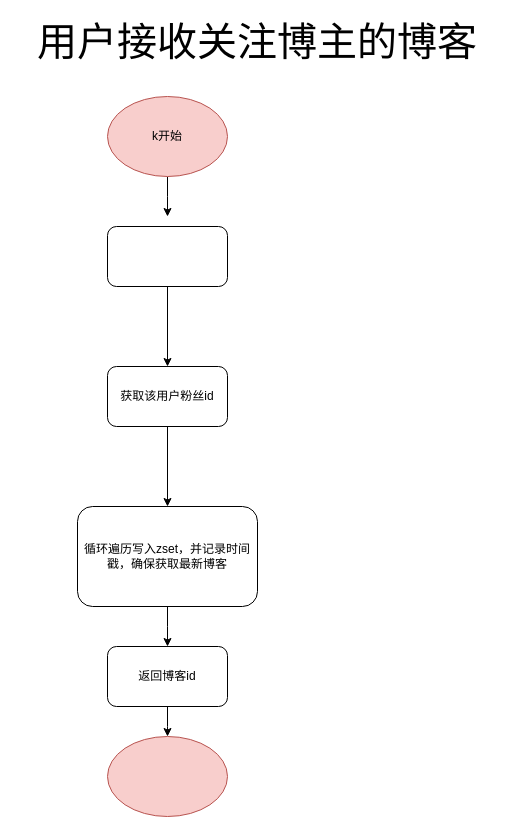
This 514x834 diagram has some shape labels left out. The shapes that lost their labels are listed below. From the top down, each one's centre as x and y in pixels, then its label:
the point at 167,256: 获取当前用户
the point at 167,776: 结束
